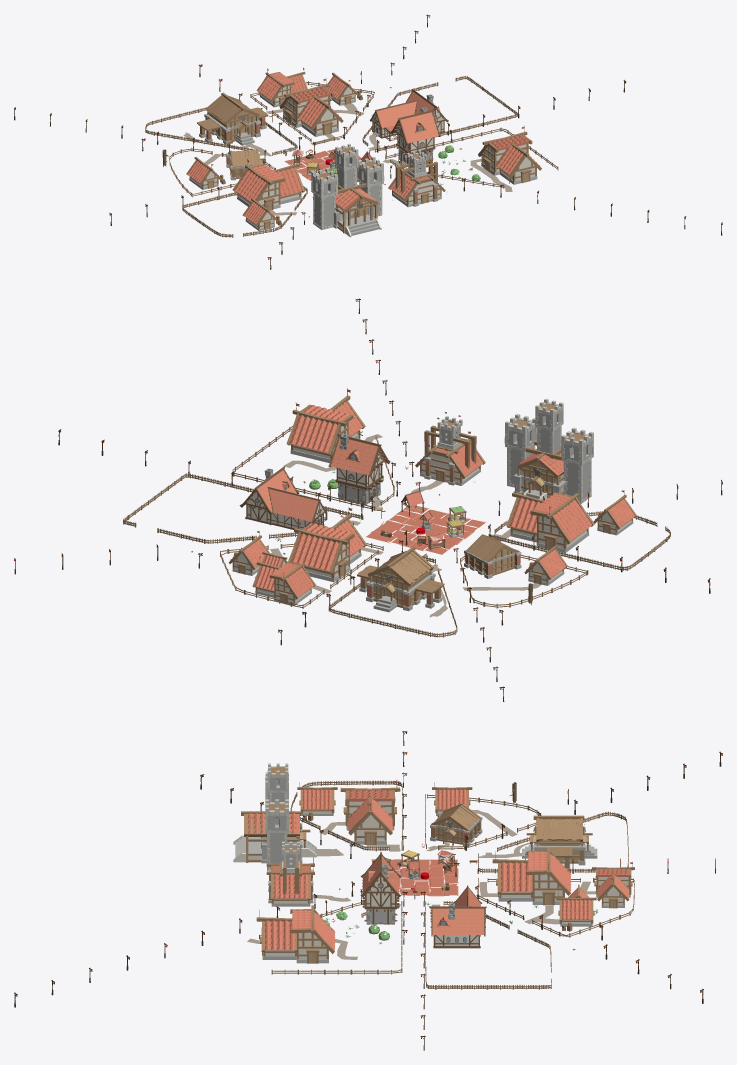
The model's file is chunk_1_1_lod0.glb.
3 views of the same model, one above another, from view 1: azimuth 30°, elevation 25°; view 2: azimuth 150°, elevation 25°; view 3: azimuth 270°, elevation 25° (orthographic). The views are drawn at different scales.
Parts seen in each view (by area): view 1: Batched_chunk_1_1; view 2: Batched_chunk_1_1; view 3: Batched_chunk_1_1.
Boxes of the visible parts, x1,y1,x2,y2 form: Batched_chunk_1_1: (14,14,722,269); Batched_chunk_1_1: (14,298,722,701); Batched_chunk_1_1: (14,731,722,1050).
Size of the model in its own units: 173 by 26.45 by 170.
